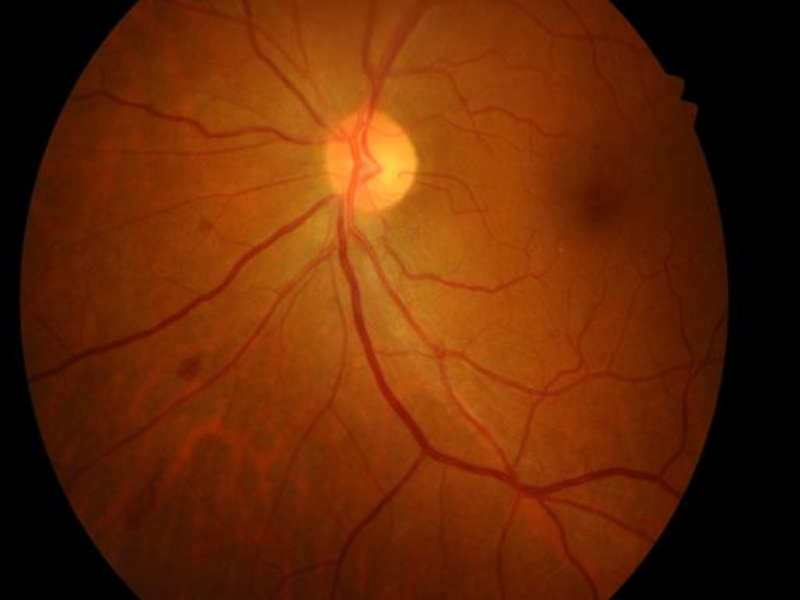Hard_exudates: (522, 186, 537, 197), (552, 245, 565, 255), (69, 123, 78, 134), (236, 55, 245, 61), (184, 125, 191, 132), (219, 118, 227, 124), (195, 92, 202, 97)
Hemorrhages: (120, 454, 169, 527), (170, 351, 211, 387), (191, 215, 216, 240), (83, 432, 107, 455), (582, 139, 603, 165), (218, 391, 233, 402), (98, 462, 111, 473)
